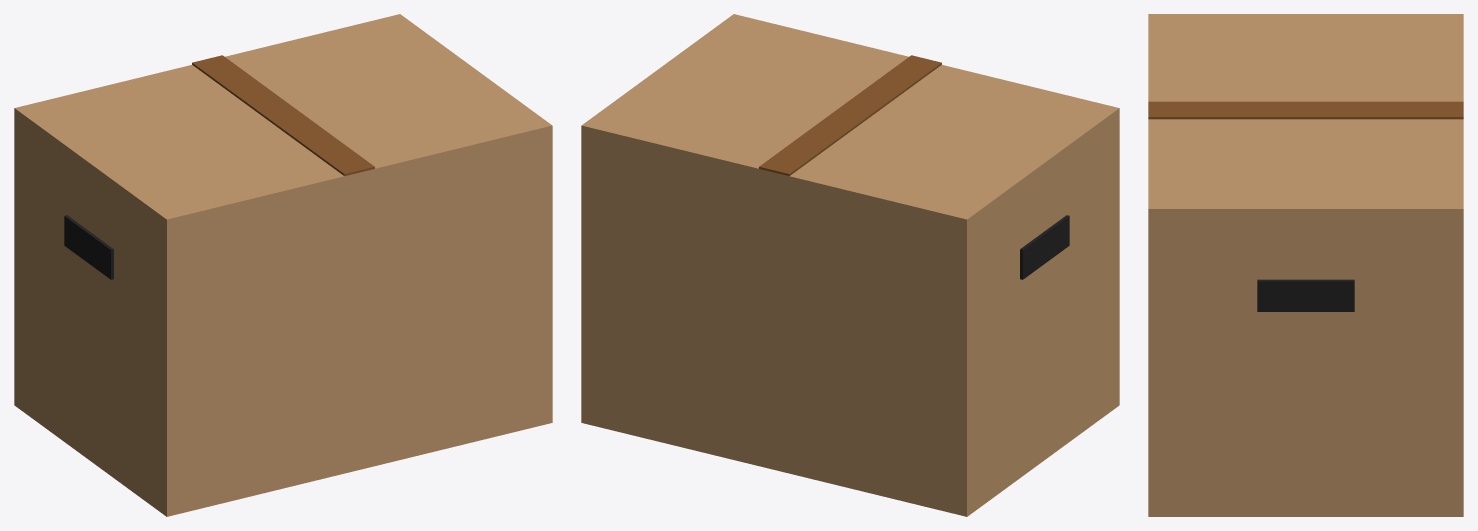
The model's file is RationBox.glb.
3 renders of one model, left to right at view 1: azimuth 30°, elevation 25°; view 2: azimuth 150°, elevation 25°; view 3: azimuth 270°, elevation 25°, orthographic. The views are drawn at different scales.
Parts seen in each view (by area): view 1: RationBody, RationLid, ReinforcedTape, HandHole_0; view 2: RationBody, RationLid, ReinforcedTape, HandHole_0; view 3: RationBody, RationLid, ReinforcedTape, HandHole_1.
Boxes of the visible parts, x1=… form: RationBody: x1=14, y1=108, x2=552, y2=516; RationLid: x1=15, y1=14, x2=551, y2=219; ReinforcedTape: x1=192, y1=55, x2=374, y2=176; HandHole_0: x1=64, y1=215, x2=113, y2=279; RationBody: x1=581, y1=108, x2=1119, y2=516; RationLid: x1=582, y1=14, x2=1118, y2=219; ReinforcedTape: x1=759, y1=55, x2=941, y2=176; HandHole_0: x1=1020, y1=215, x2=1069, y2=279; RationBody: x1=1148, y1=209, x2=1463, y2=516; RationLid: x1=1148, y1=14, x2=1463, y2=208; ReinforcedTape: x1=1148, y1=101, x2=1463, y2=119; HandHole_1: x1=1257, y1=279, x2=1354, y2=311.
Bounding box in the file's own units: 3.86 × 2.82 × 2.6.
